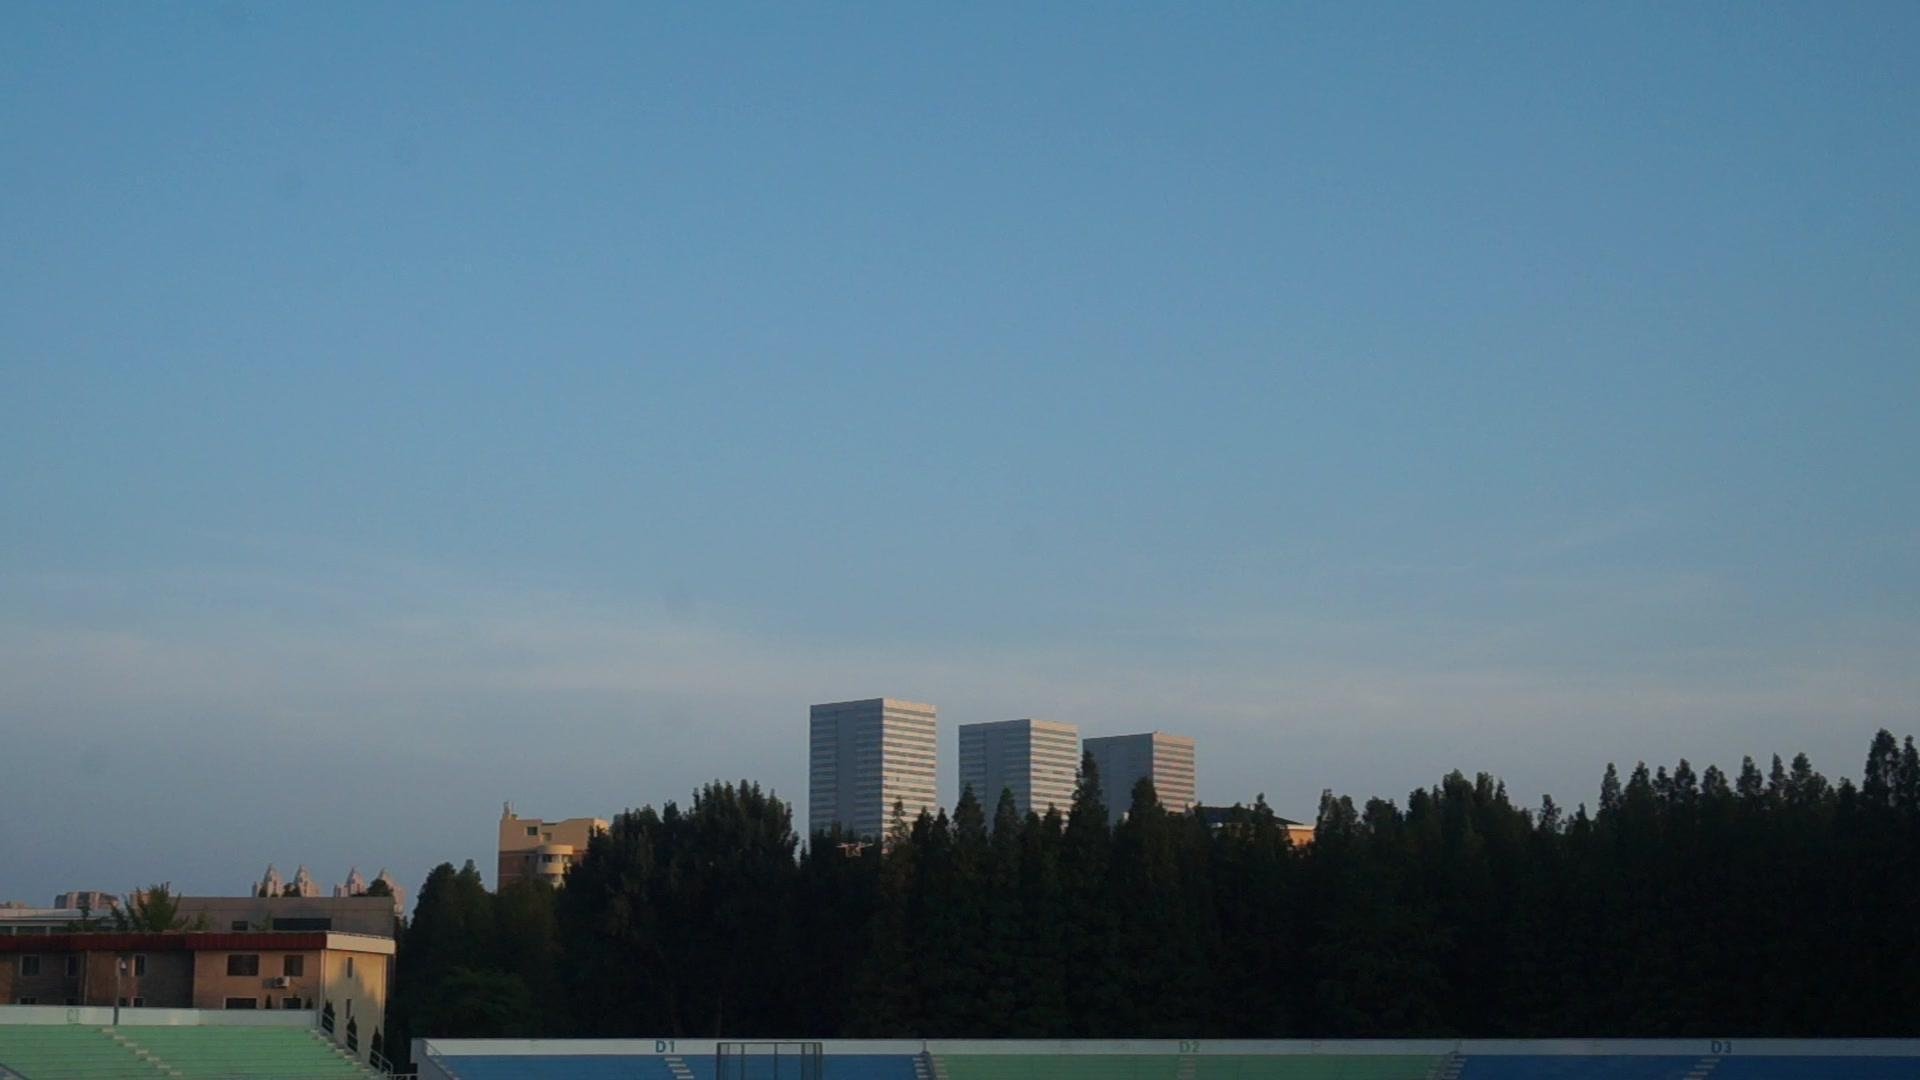UAV: (837, 841, 874, 860)
